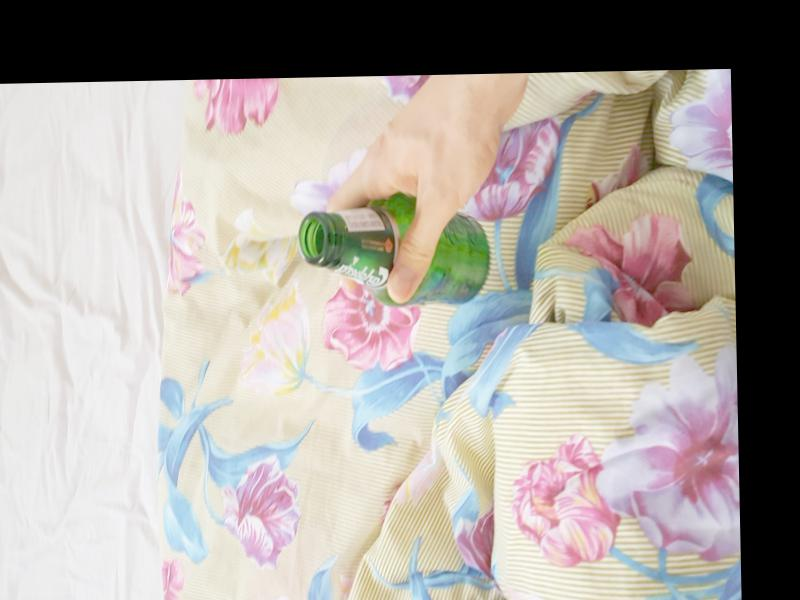Beer: (300, 190, 491, 306)
